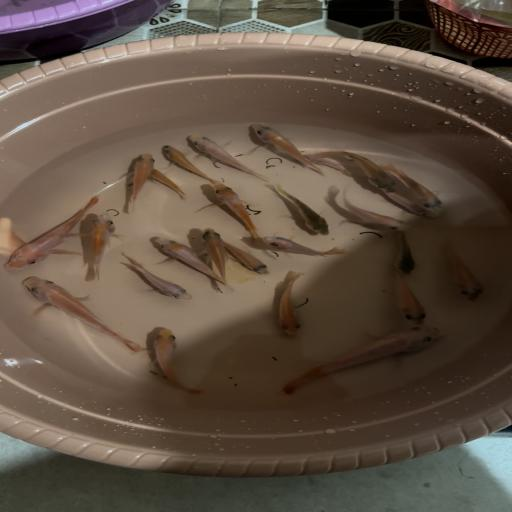nila: (269, 325, 448, 397), (17, 272, 149, 352), (0, 195, 103, 273), (308, 144, 412, 195), (141, 322, 210, 397), (233, 122, 320, 180), (147, 236, 227, 285), (185, 136, 277, 178), (118, 254, 196, 303), (204, 182, 266, 242), (431, 238, 488, 302), (380, 165, 457, 211), (267, 184, 332, 237), (266, 270, 312, 344), (335, 191, 416, 232), (377, 273, 437, 326), (81, 210, 123, 284), (368, 186, 440, 224), (160, 144, 220, 184), (196, 225, 238, 280), (261, 234, 348, 260), (124, 150, 160, 212), (388, 231, 426, 276), (291, 152, 352, 180), (225, 240, 270, 277), (146, 168, 193, 197)
